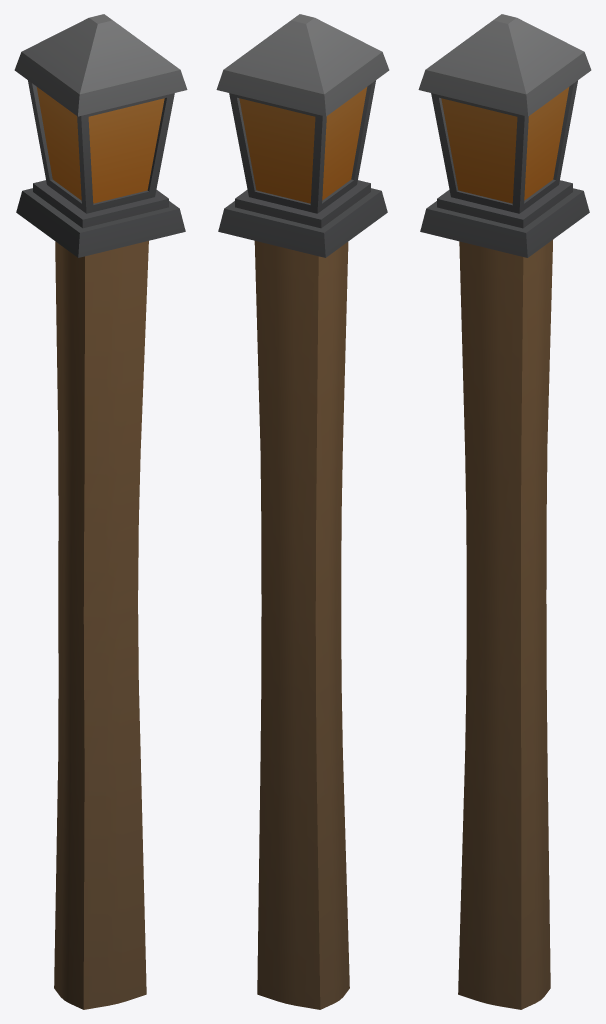
Rendered from Lantern_01.fbx.
3 views of the same model, side by side, from view 1: azimuth 30°, elevation 25°; view 2: azimuth 150°, elevation 25°; view 3: azimuth 330°, elevation 25° (orthographic).
Parts seen in each view (by area): view 1: Lantern_01_LOD0; view 2: Lantern_01_LOD0; view 3: Lantern_01_LOD0.
Part boxes in pixels (bbox=[...]): Lantern_01_LOD0: bbox=[14, 14, 187, 1009]; Lantern_01_LOD0: bbox=[216, 14, 389, 1009]; Lantern_01_LOD0: bbox=[418, 14, 591, 1009].
Size of what is drawn, in the model's own units: 0.2506 by 2.12 by 0.2506.
